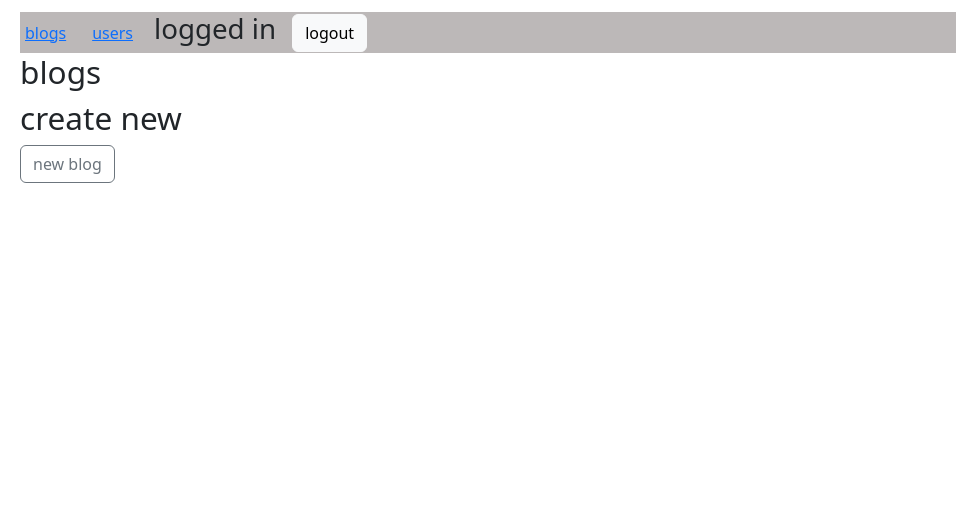
Test: Blog app › When logged in › A blog can be created
Click the button "new blog" at x=68, y=164, box [20,145,115,183]
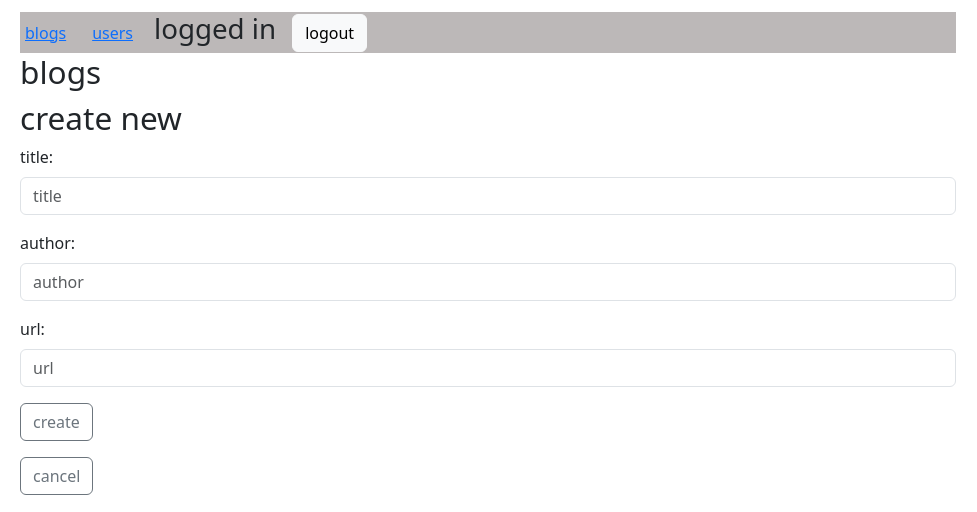
Type "Test title" into the field with id "title" at x=488, y=196, box [20,177,956,215]
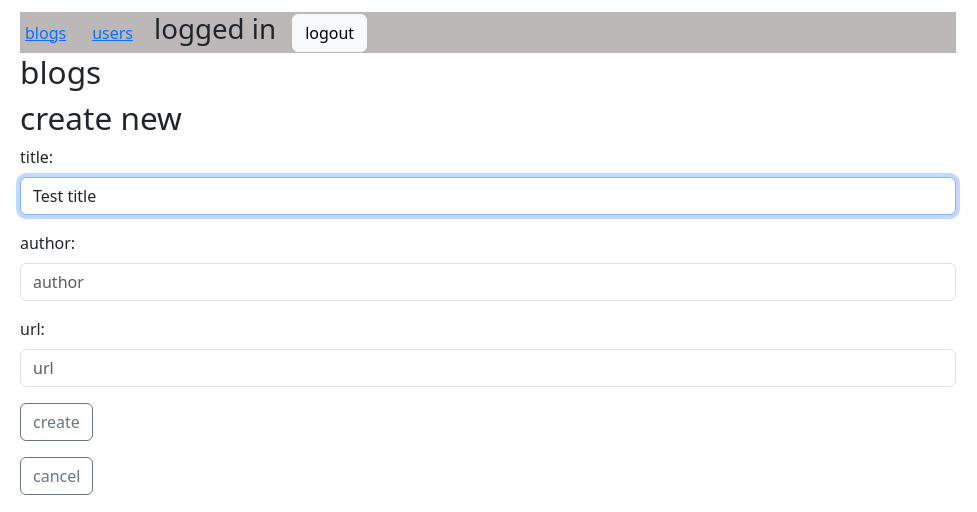
Type "Test author" into the field with id "author" at x=488, y=282, box [20,263,956,301]
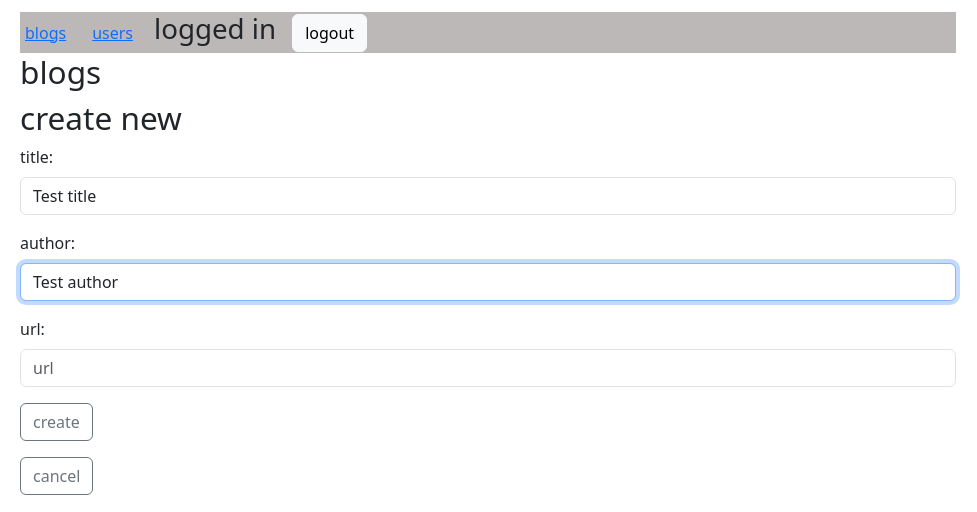
Type "Test url" into the field with id "url" at x=488, y=368, box [20,349,956,387]
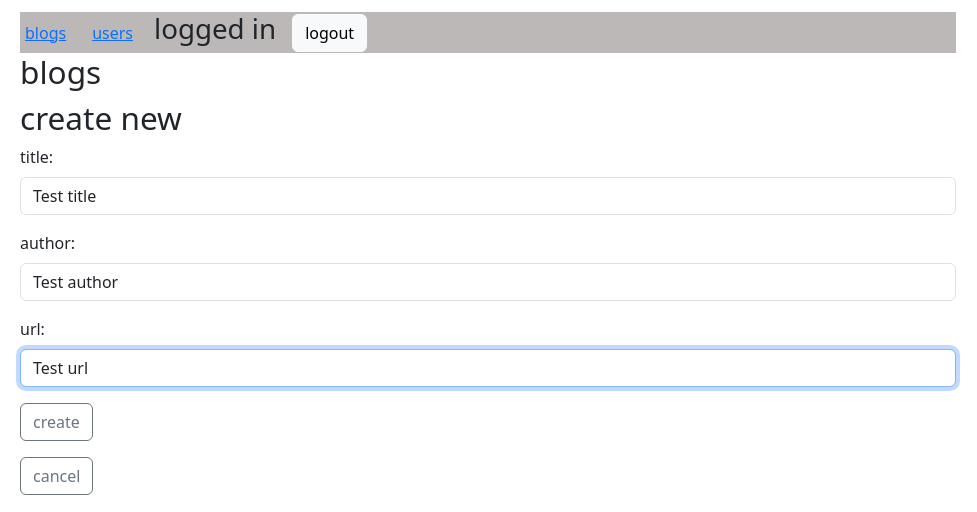
Click the button with id "create-button" at x=57, y=422, box [20,403,93,441]
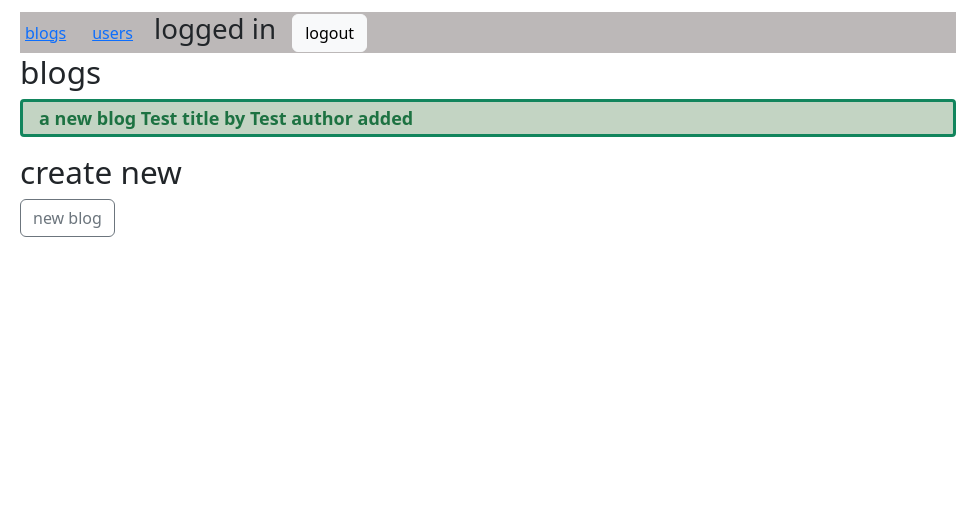
Check: the text "Test title" is shown, box [39,106,413,130]
